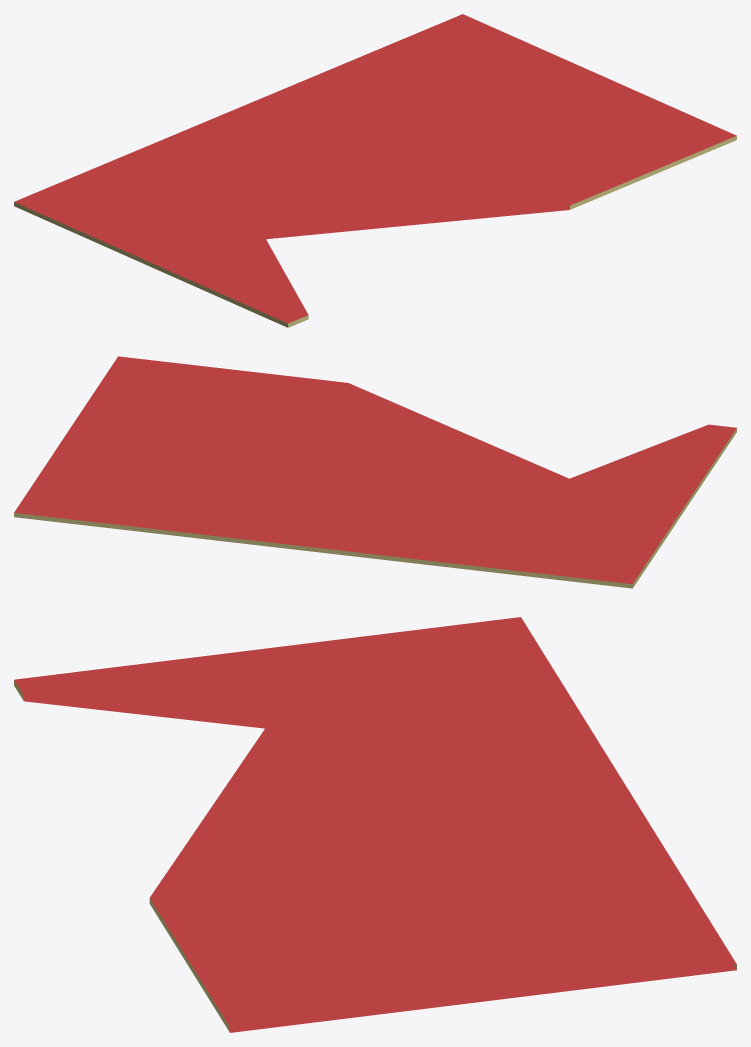
3 renders of one model, top to bottom at view 1: azimuth 30°, elevation 25°; view 2: azimuth 150°, elevation 25°; view 3: azimuth 270°, elevation 25°, orthographic. The views are drawn at different scales.
Bounding box in the file's own units: 14.89 × 11.27 × 0.21.
